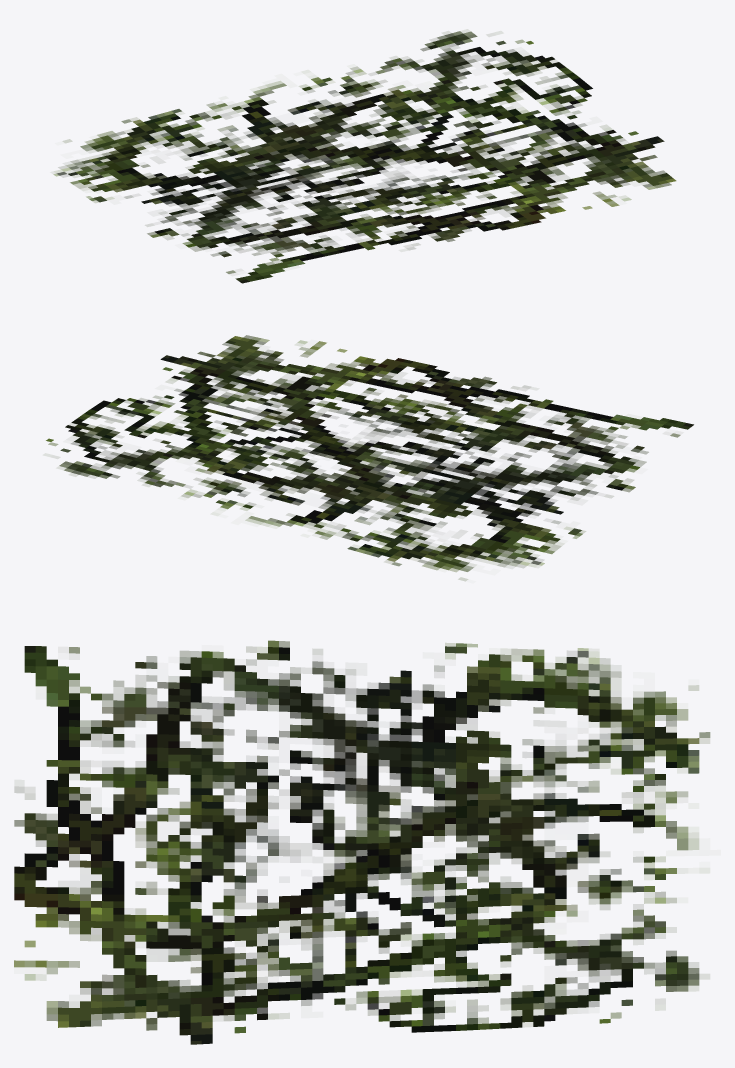
Rendered from Environment - Prop - Vines Green - Damaged - PMvines01_D.glb.
3 views of the same model, one above another, from view 1: azimuth 30°, elevation 25°; view 2: azimuth 150°, elevation 25°; view 3: azimuth 270°, elevation 25° (orthographic). The views are drawn at different scales.
Visible parts, largest first — view 1: PMVINES01_D; view 2: PMVINES01_D; view 3: PMVINES01_D.
Part boxes in pixels (bbox=[...]): PMVINES01_D: bbox=[53, 31, 676, 283]; PMVINES01_D: bbox=[46, 335, 693, 580]; PMVINES01_D: bbox=[14, 640, 710, 1044].
Bounding box in the file's own units: 33.75 × 1.05 × 24.99.
Materials: 1 (1 with a texture image).
